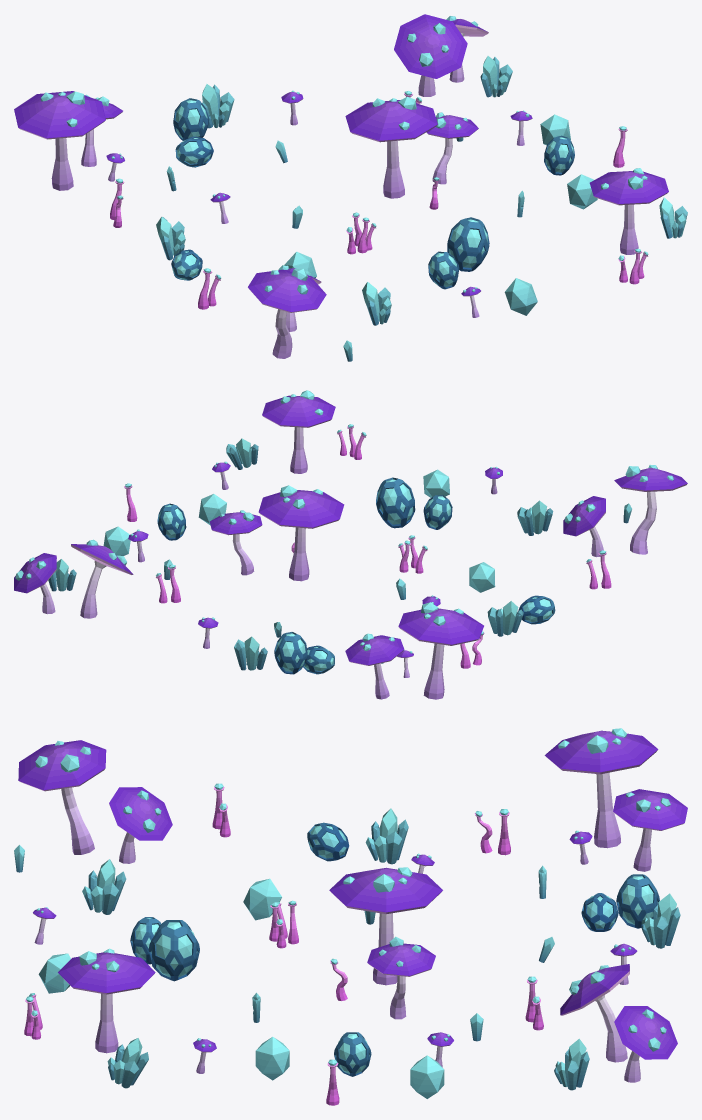
The model's file is fantastic_planet.glb.
The picture shows the model from 3 angles, top to bottom: view 1: azimuth 30°, elevation 25°; view 2: azimuth 150°, elevation 25°; view 3: azimuth 270°, elevation 25°; orthographic projection. The views are drawn at different scales.
Parts seen in each view (by area): view 1: alien mushroom 2_35, alien mushroom 2 (2)_39, alien mushroom 4 (2)_8, alien mushroom 3_43, alien mushroom 2 (3)_1, fantastic egg (3)_33, alien mushroom 3 (1)_21, fantastic egg_26, crystal stones group 4 (4)_25, fantastic egg (2)_3, crystal stones group 4_6, fantastic egg (4)_41 (+10 smaller); view 2: alien mushroom 2 (2)_39, alien mushroom 2_35, alien mushroom 2 (3)_1, alien mushroom 3_43, alien mushroom 2 (1)_18, fantastic egg (3)_33, alien mushroom 4 (2)_8, alien mushroom 4 (1)_44, alien mushroom 4_9, alien mushroom 3 (1)_21, fantastic egg_26, crystal stones group 4 (3)_4 (+12 smaller); view 3: alien mushroom 2_35, alien mushroom 2 (2)_39, alien mushroom 3_43, alien mushroom 2 (3)_1, alien mushroom 2 (1)_18, alien mushroom 4 (1)_44, alien mushroom 4_9, alien mushroom 4 (2)_8, alien mushroom 3 (1)_21, fantastic egg (3)_33, fantastic egg_26, crystal stones group 4 (2)_14 (+12 smaller).
Part boxes in pixels (x1=…): alien mushroom 2_35: x1=14, y1=91, x2=105, y2=190; alien mushroom 2 (2)_39: x1=345, y1=96, x2=437, y2=198; alien mushroom 4 (2)_8: x1=394, y1=14, x2=467, y2=96; alien mushroom 3_43: x1=248, y1=268, x2=326, y2=358; alien mushroom 2 (3)_1: x1=589, y1=168, x2=668, y2=254; fantastic egg (3)_33: x1=447, y1=217, x2=489, y2=271; alien mushroom 3 (1)_21: x1=426, y1=112, x2=478, y2=184; fantastic egg_26: x1=173, y1=98, x2=209, y2=140; crystal stones group 4 (4)_25: x1=202, y1=84, x2=234, y2=128; fantastic egg (2)_3: x1=544, y1=135, x2=574, y2=175; crystal stones group 4_6: x1=480, y1=56, x2=512, y2=97; fantastic egg (4)_41: x1=428, y1=251, x2=459, y2=289; alien mushroom 2 (2)_39: x1=258, y1=485, x2=344, y2=581; alien mushroom 2_35: x1=398, y1=602, x2=483, y2=699; alien mushroom 2 (3)_1: x1=262, y1=390, x2=335, y2=473; alien mushroom 3_43: x1=614, y1=464, x2=687, y2=554; alien mushroom 2 (1)_18: x1=345, y1=633, x2=404, y2=699; fantastic egg (3)_33: x1=376, y1=477, x2=415, y2=528; alien mushroom 4 (2)_8: x1=71, y1=539, x2=133, y2=618; alien mushroom 4 (1)_44: x1=14, y1=553, x2=56, y2=614; alien mushroom 4_9: x1=563, y1=496, x2=605, y2=557; alien mushroom 3 (1)_21: x1=209, y1=510, x2=262, y2=575; fantastic egg_26: x1=274, y1=632, x2=307, y2=674; crystal stones group 4 (3)_4: x1=487, y1=601, x2=523, y2=636; alien mushroom 2_35: x1=544, y1=728, x2=658, y2=848; alien mushroom 2 (2)_39: x1=329, y1=867, x2=442, y2=985; alien mushroom 3_43: x1=18, y1=740, x2=106, y2=854; alien mushroom 2 (3)_1: x1=58, y1=948, x2=155, y2=1053; alien mushroom 2 (1)_18: x1=613, y1=789, x2=687, y2=871; alien mushroom 4 (1)_44: x1=614, y1=1006, x2=677, y2=1082; alien mushroom 4_9: x1=109, y1=787, x2=172, y2=863; alien mushroom 4 (2)_8: x1=560, y1=964, x2=629, y2=1062; alien mushroom 3 (1)_21: x1=367, y1=936, x2=435, y2=1019; fantastic egg (3)_33: x1=148, y1=920, x2=199, y2=981; fantastic egg_26: x1=616, y1=874, x2=659, y2=928; crystal stones group 4 (2)_14: x1=82, y1=859, x2=126, y2=914.
Size of the model in its own units: 18.3 by 4.07 by 18.11.
Materials: 1 (1 with a texture image).
